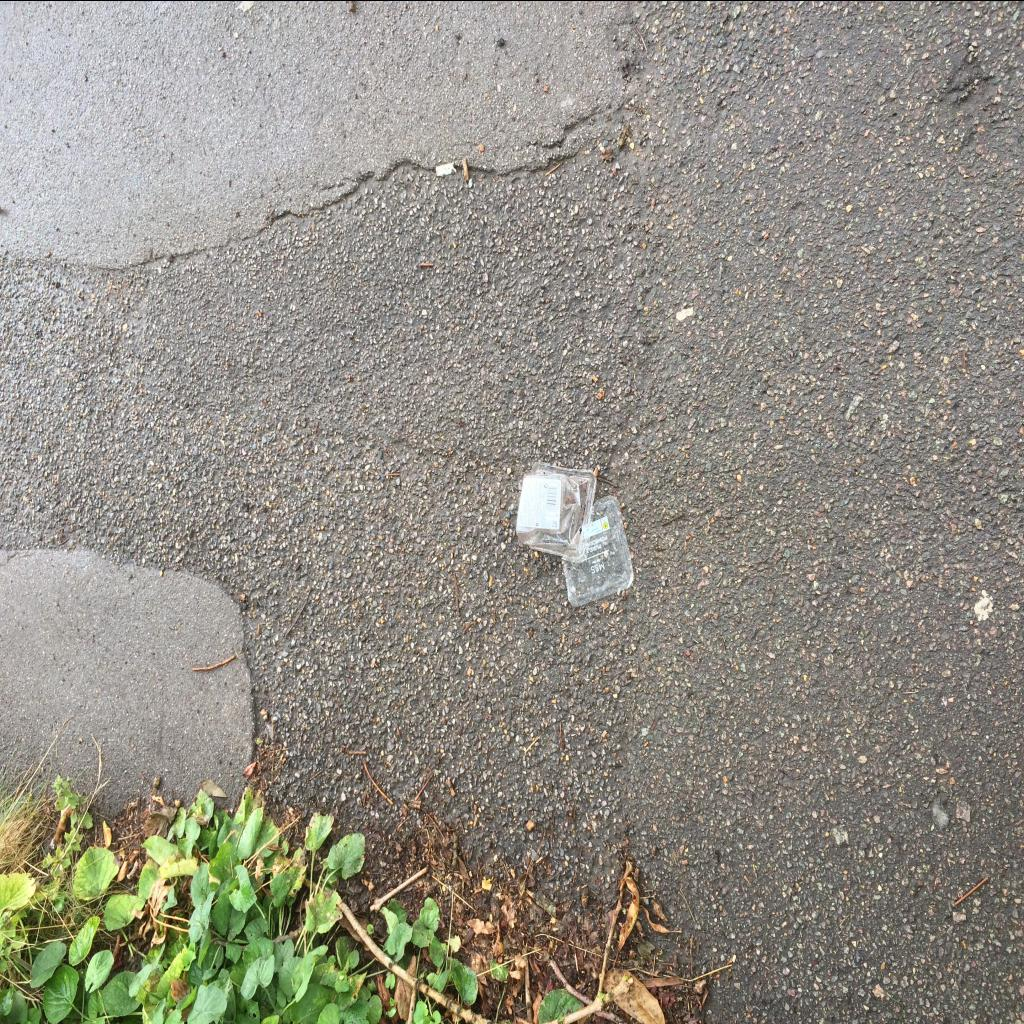Cigarette: (436, 162, 458, 176)
Disposable food container: (516, 458, 596, 560)
Plastic film: (561, 494, 633, 606)
